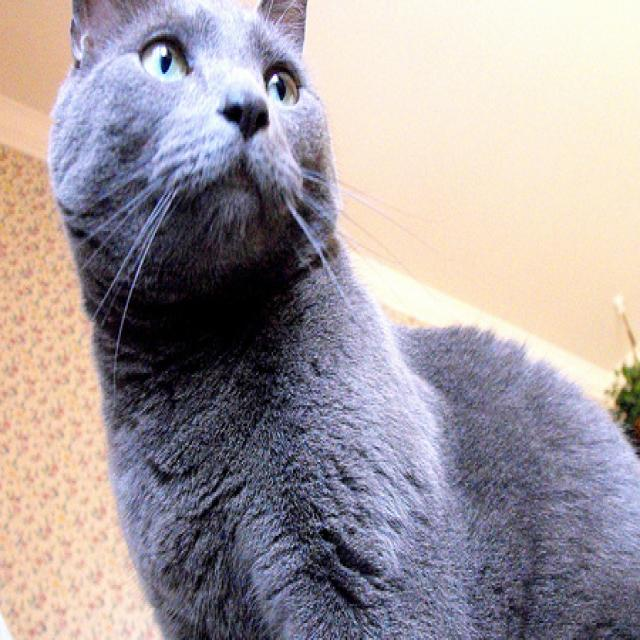Russian Blue: (44, 0, 640, 640)
